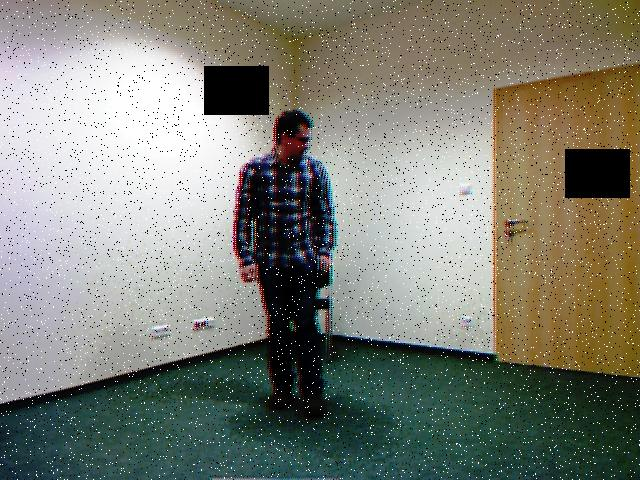standing: (227, 101, 348, 428)
